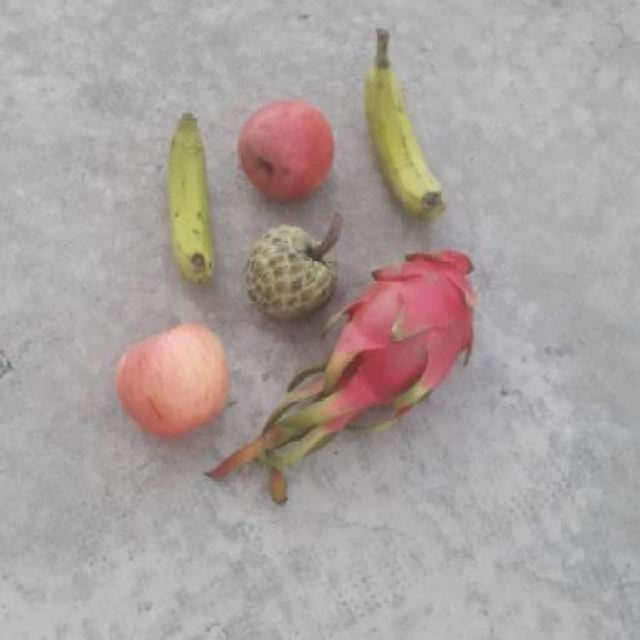apple: (115, 318, 232, 438), (232, 96, 340, 202)
banana: (368, 60, 446, 220), (156, 107, 224, 290)
dragon fruit: (343, 247, 479, 416)
sugar apple: (242, 225, 340, 330)
